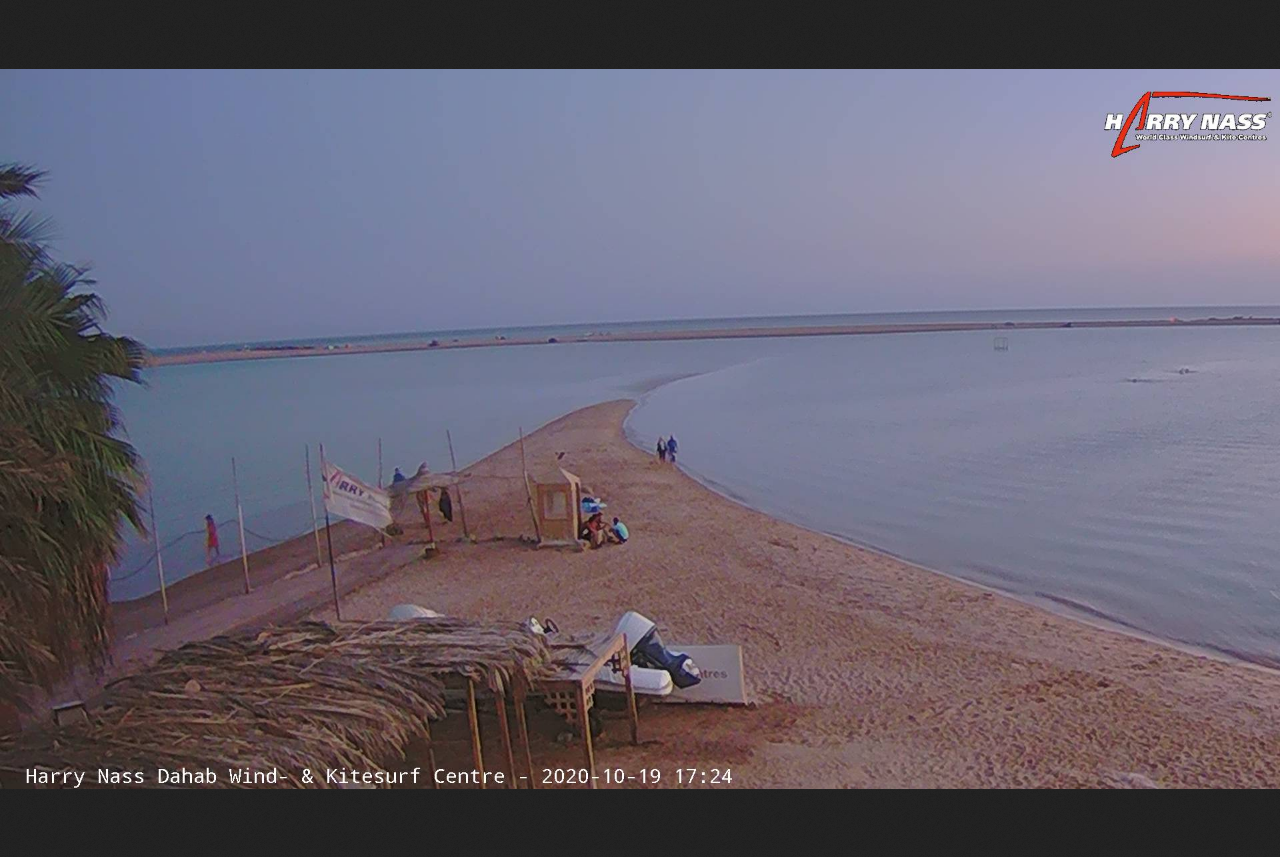maybe: (316, 442, 399, 539)
